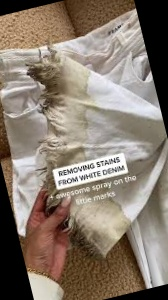earth: (33, 68, 97, 133), (76, 204, 125, 247), (45, 133, 87, 167)
